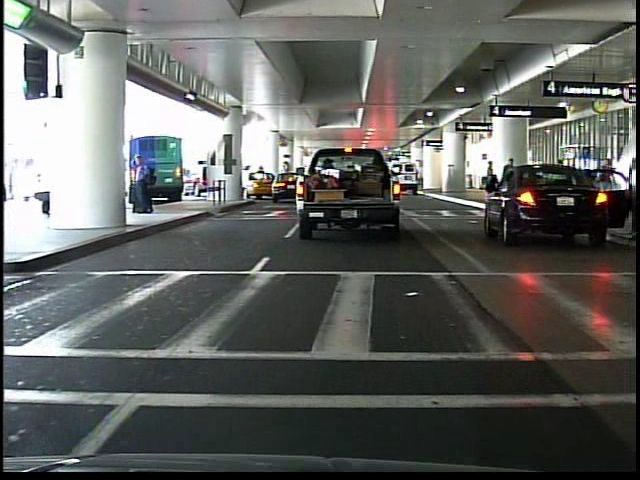person: (130, 152, 157, 217)
